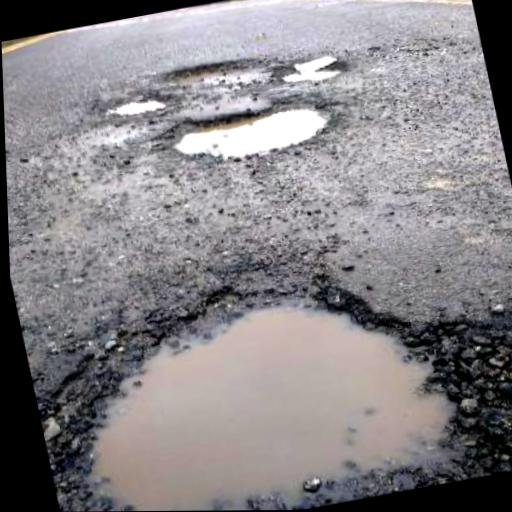pothole: (21, 230, 512, 512), (153, 91, 343, 171), (151, 50, 270, 91), (274, 47, 346, 86), (97, 88, 171, 122)
